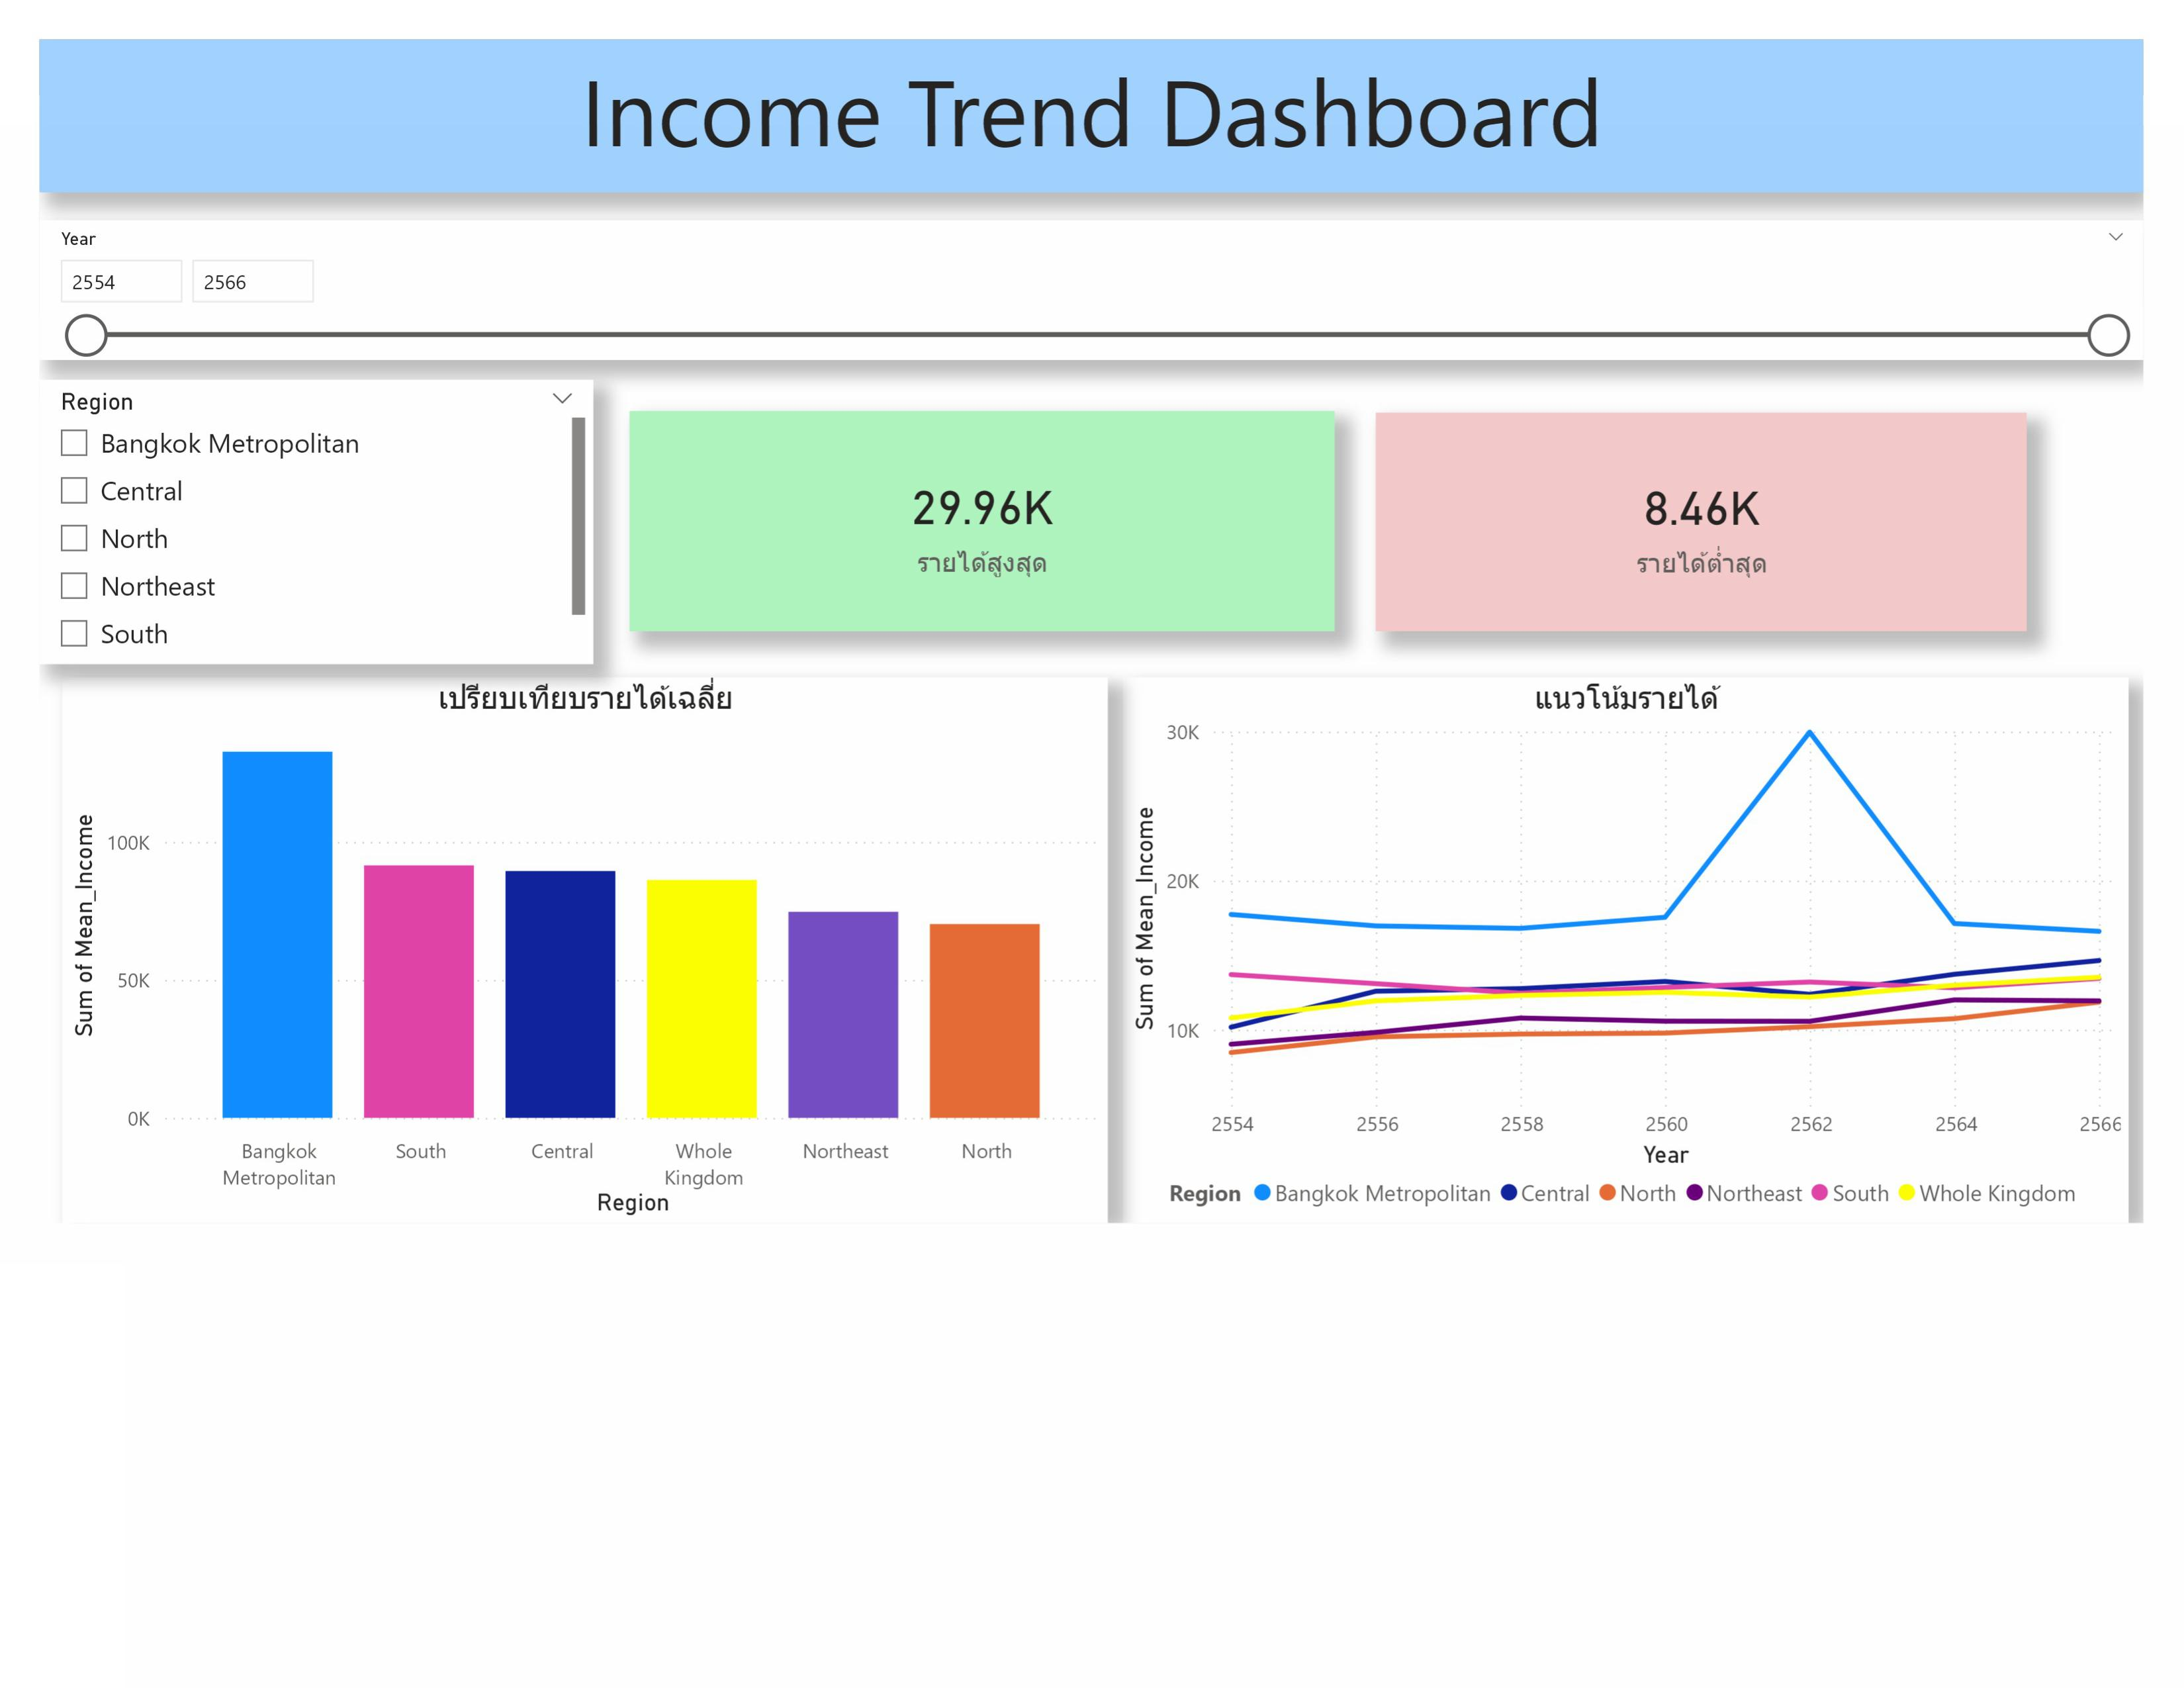

Layout of this report page (visuals, bound fields, positions):
{"tool":"powerbi","page":{"name":"Income Trend Dashboard","canvas":[1280,720],"ordinal":0},"visuals":[{"type":"lineChart","title":"แนวโน้มรายได้","fields":{"Category":["income_trend_dataset.Year"],"Y":["Sum(income_trend_dataset.Mean_Income)"],"Series":["income_trend_dataset.Region"]},"box":[658.8,387.5,612.3,332.2],"z":0},{"type":"clusteredColumnChart","title":"เปรียบเทียบรายได้เฉลี่ย","fields":{"Category":["income_trend_dataset.Region"],"Y":["Sum(income_trend_dataset.Mean_Income)"]},"box":[14.4,387.5,635.6,332.2],"z":1000},{"type":"card","fields":{"Values":["Max(income_trend_dataset.Mean_Income)"]},"box":[358.8,225.9,429.6,134],"z":2000},{"type":"card","fields":{"Values":["Min(income_trend_dataset.Mean_Income)"]},"box":[812.7,227,396.4,132.9],"z":3000},{"type":"textbox","box":[0,0,1280,93],"z":4000},{"type":"slicer","fields":{"Values":["income_trend_dataset.Year"]},"box":[0,109.6,1280,85.3],"z":5000},{"type":"slicer","fields":{"Values":["income_trend_dataset.Region"]},"box":[0,207.1,336.6,172.7],"z":6000}]}

Visuals, with their boxes on the page's 1280x720 design canvas (x1, y1, x2, y2). These are canvas units, not pixel positions in the 2184x1688 screenshot, which may show the page scaled, cropped or inside an application window:
"แนวโน้มรายได้" lineChart: box(659, 388, 1271, 720)
"เปรียบเทียบรายได้เฉลี่ย" clusteredColumnChart: box(14, 388, 650, 720)
card - Max(income_trend_dataset.Mean_Income): box(359, 226, 788, 360)
card - Min(income_trend_dataset.Mean_Income): box(813, 227, 1209, 360)
textbox: box(0, 0, 1280, 93)
slicer - income_trend_dataset.Year: box(0, 110, 1280, 195)
slicer - income_trend_dataset.Region: box(0, 207, 337, 380)
